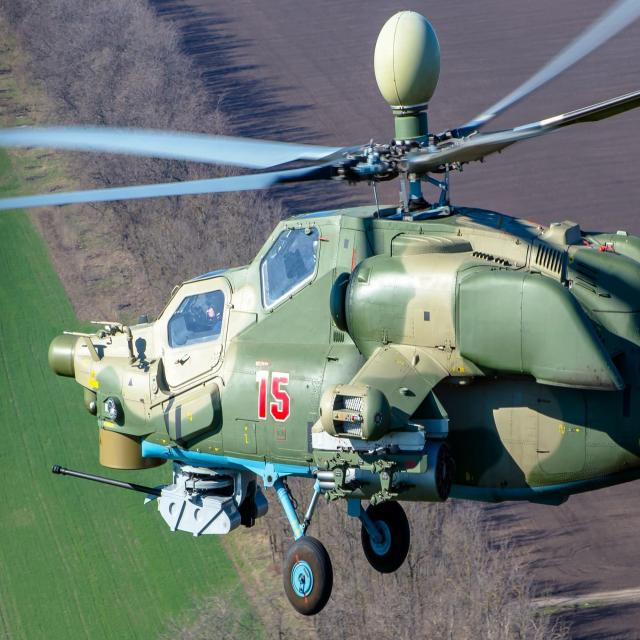MIL_HELO: (7, 5, 640, 616)
